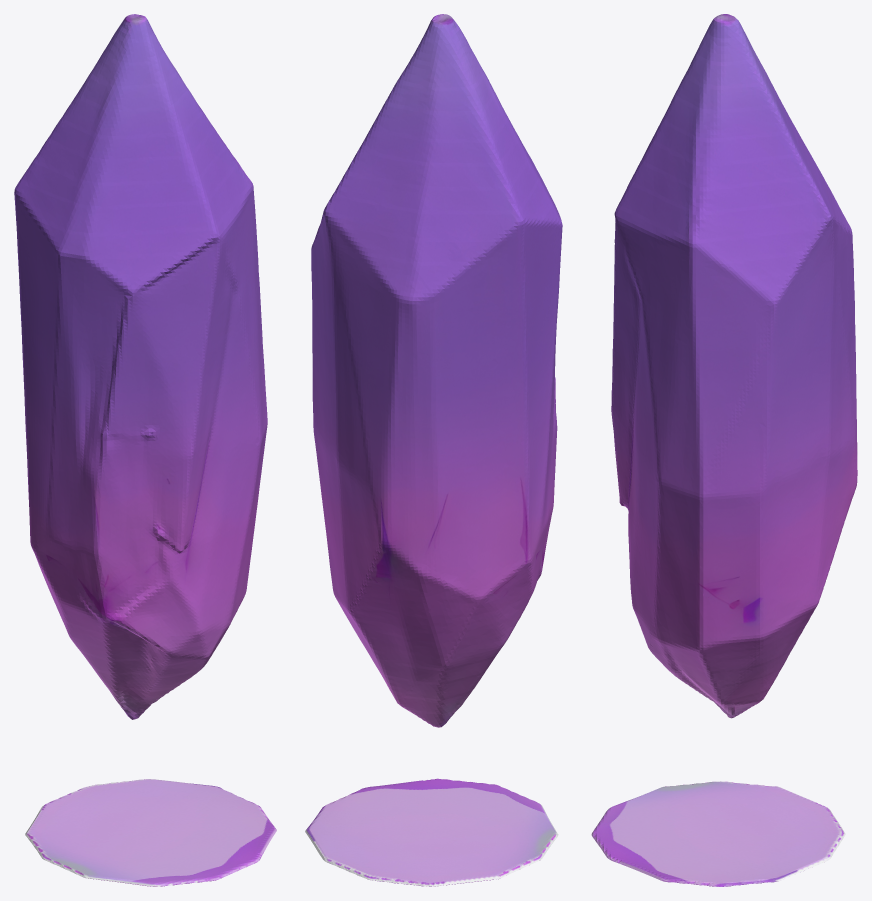
File: savepoint.glb
3 renders of one model, left to right at view 1: azimuth 30°, elevation 25°; view 2: azimuth 150°, elevation 25°; view 3: azimuth 270°, elevation 25°, orthographic.
Parts seen in each view (by area): view 1: textured_mesh.obj; view 2: textured_mesh.obj; view 3: textured_mesh.obj.
Boxes of the visible parts, x1,y1,x2,y2 form: textured_mesh.obj: [14, 14, 276, 886]; textured_mesh.obj: [305, 14, 562, 886]; textured_mesh.obj: [591, 14, 857, 886].
Bounding box in the file's own units: 0.5646 × 1.99 × 0.5899.
Materials: 1 (1 with a texture image).
